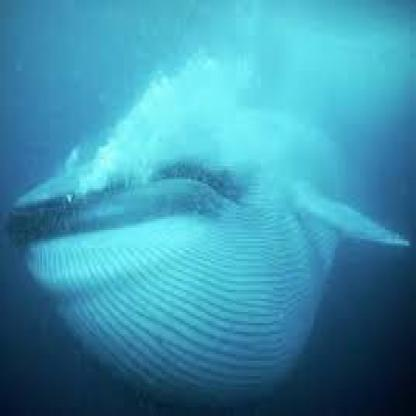blue_whale: (5, 51, 410, 414)
